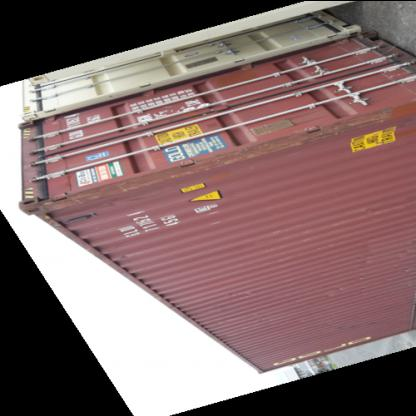Damage: (40, 112, 386, 224)
